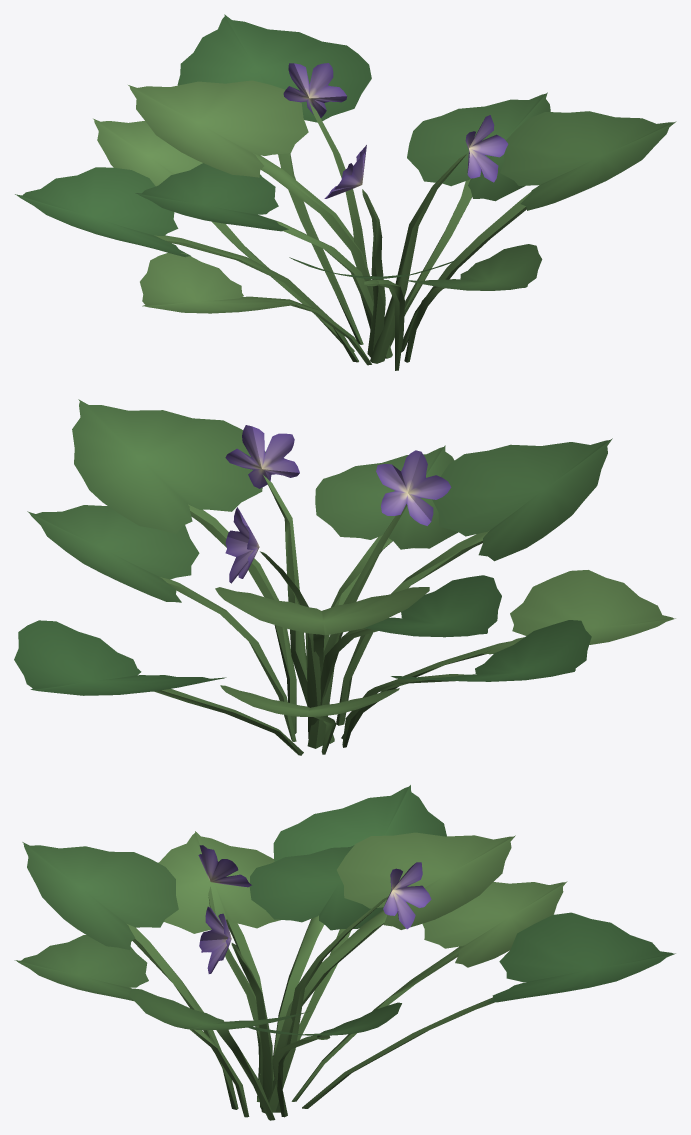
File: natural-violet.glb
3 renders of one model, top to bottom at view 1: azimuth 30°, elevation 25°; view 2: azimuth 150°, elevation 25°; view 3: azimuth 270°, elevation 25°, orthographic. The views are drawn at different scales.
Visible parts, largest first — view 1: Violet, FlowersViolet; view 2: Violet, FlowersViolet; view 3: Violet, FlowersViolet.
Boxes of the visible parts, bbox=[...] form: Violet: bbox=[15, 14, 676, 370]; FlowersViolet: bbox=[283, 63, 508, 198]; Violet: bbox=[14, 399, 675, 755]; FlowersViolet: bbox=[225, 425, 451, 583]; Violet: bbox=[14, 785, 675, 1120]; FlowersViolet: bbox=[198, 845, 431, 973].
Size of the model in its own units: 0.951 by 0.411 by 1.
